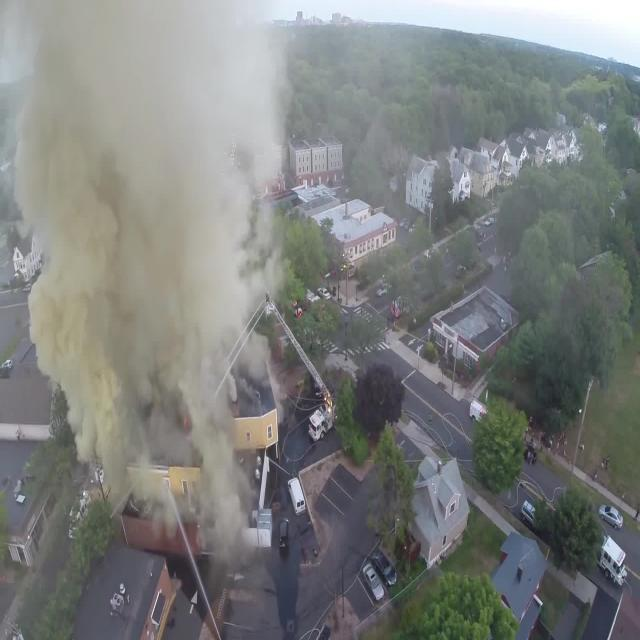Smoke: (11, 32, 274, 487)
